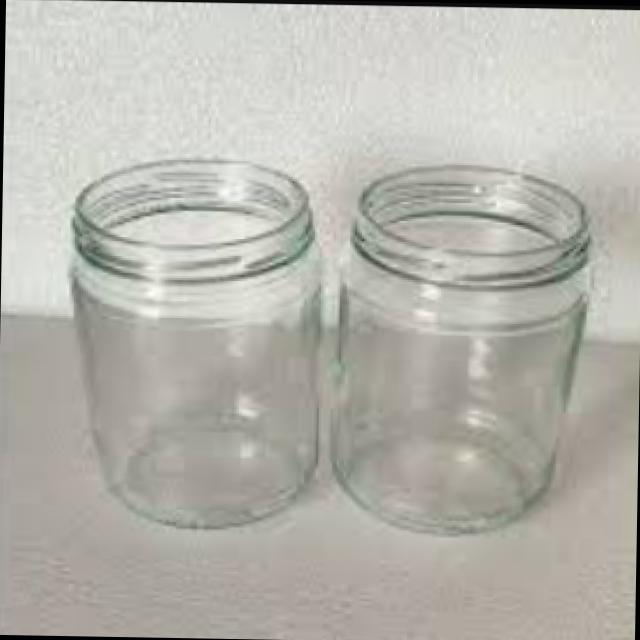ToplesKaca: (326, 158, 596, 538), (60, 152, 327, 530)
